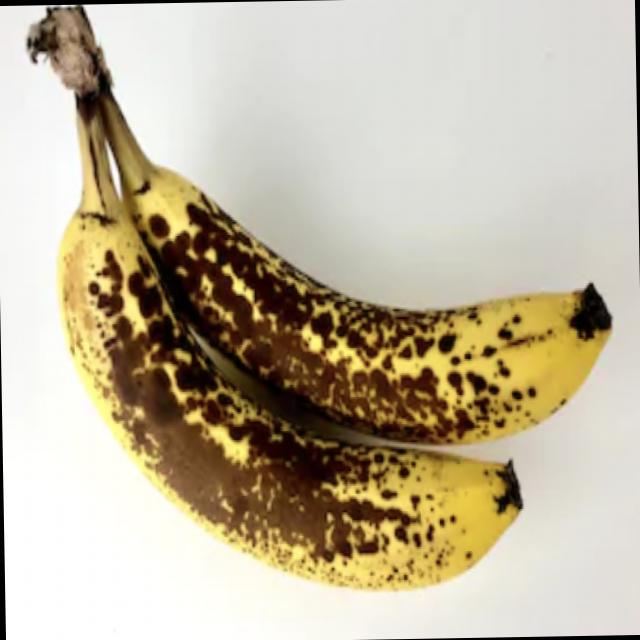rotten-banana: (108, 126, 616, 419)
